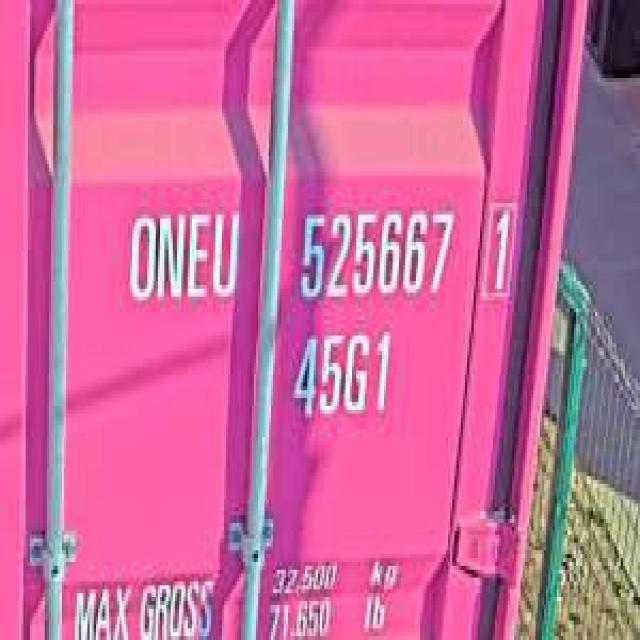dv: (482, 188, 516, 304)
owner: (122, 203, 243, 308)
serial: (294, 199, 456, 308)
size: (288, 324, 395, 421)
